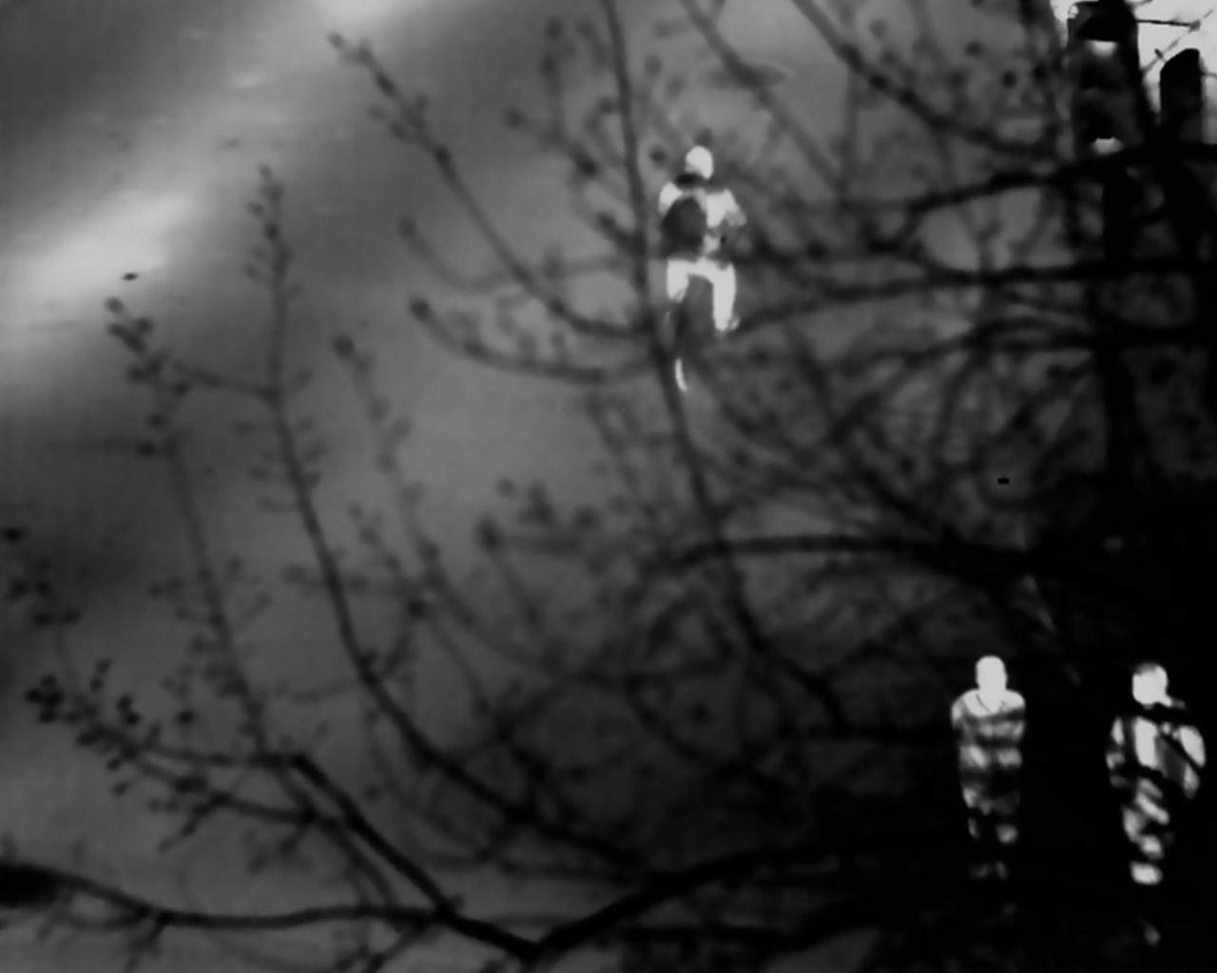person: (1096, 666, 1190, 890), (657, 149, 751, 349), (947, 652, 1035, 839)
